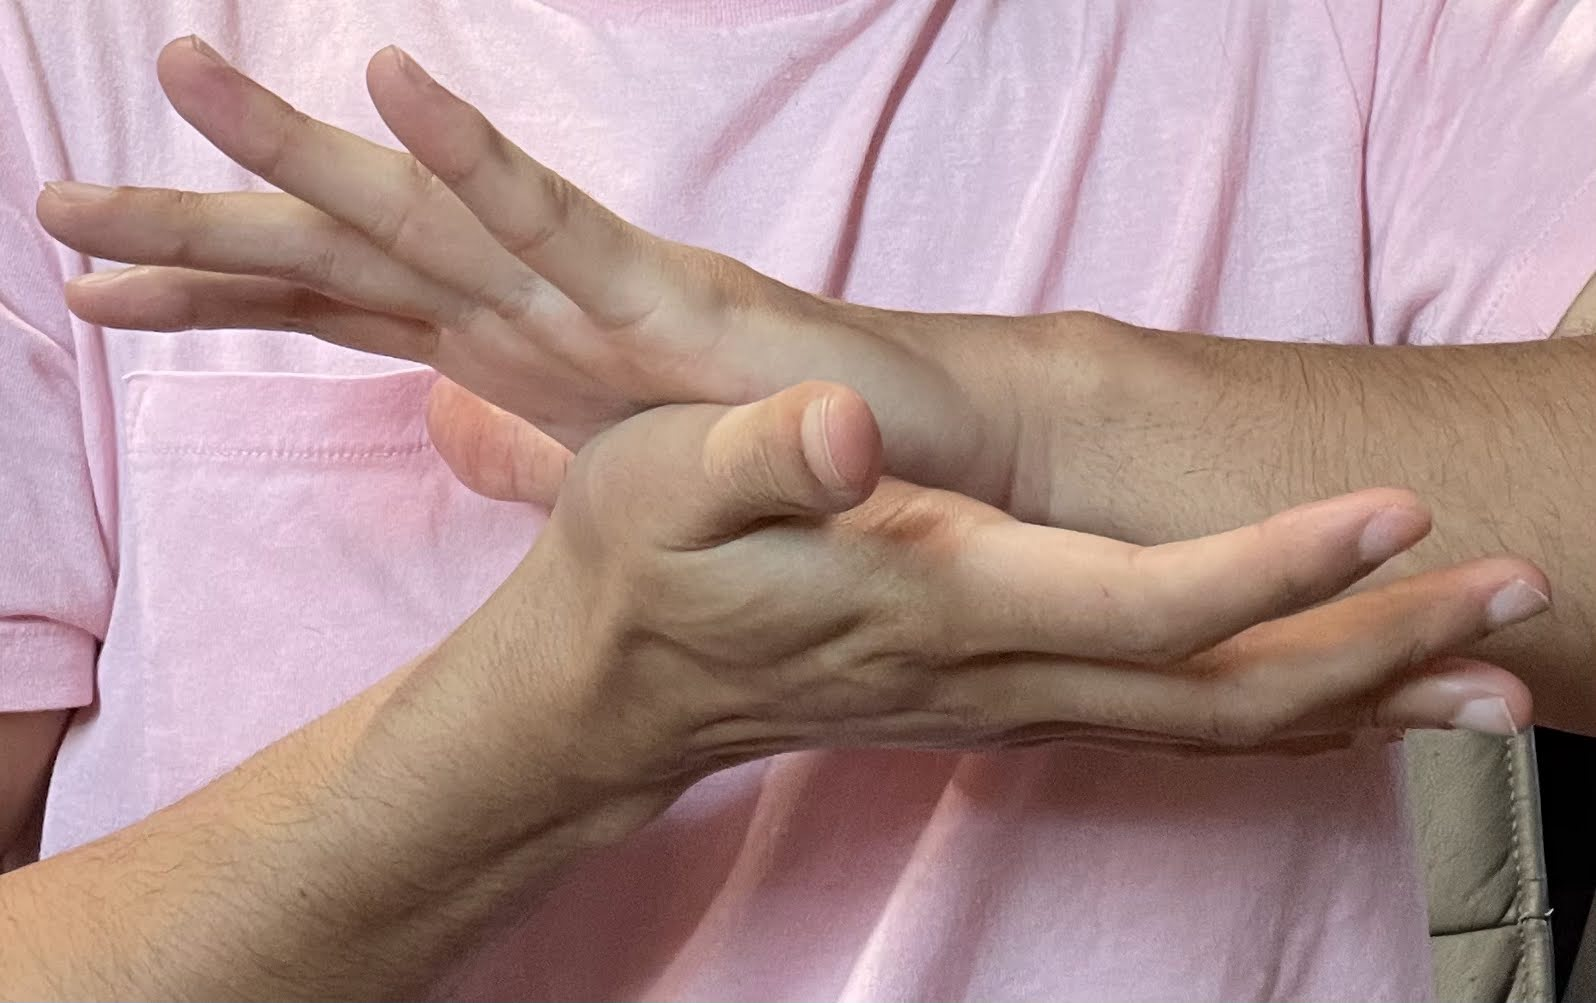cheese: (32, 32, 1559, 807)
